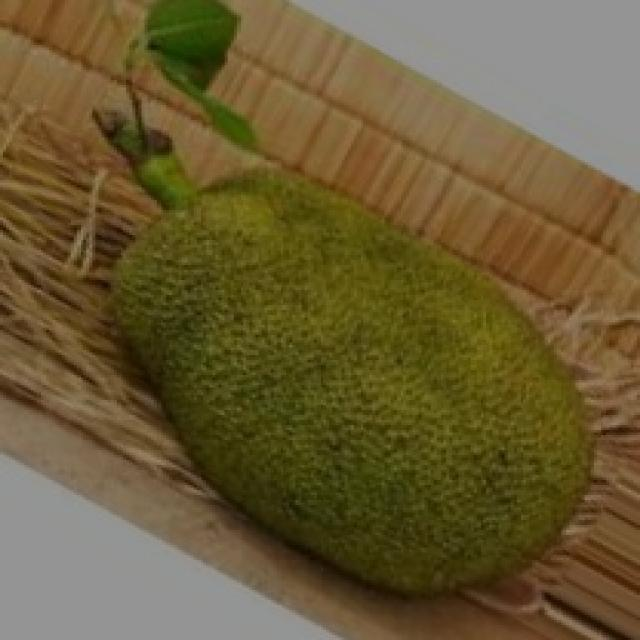Fruit: (237, 217, 621, 635)
